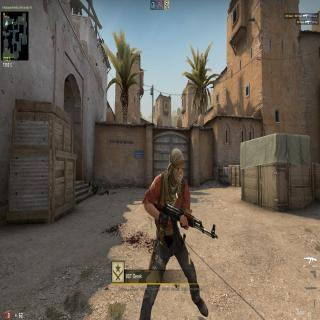T-Head: (168, 146, 185, 188)
